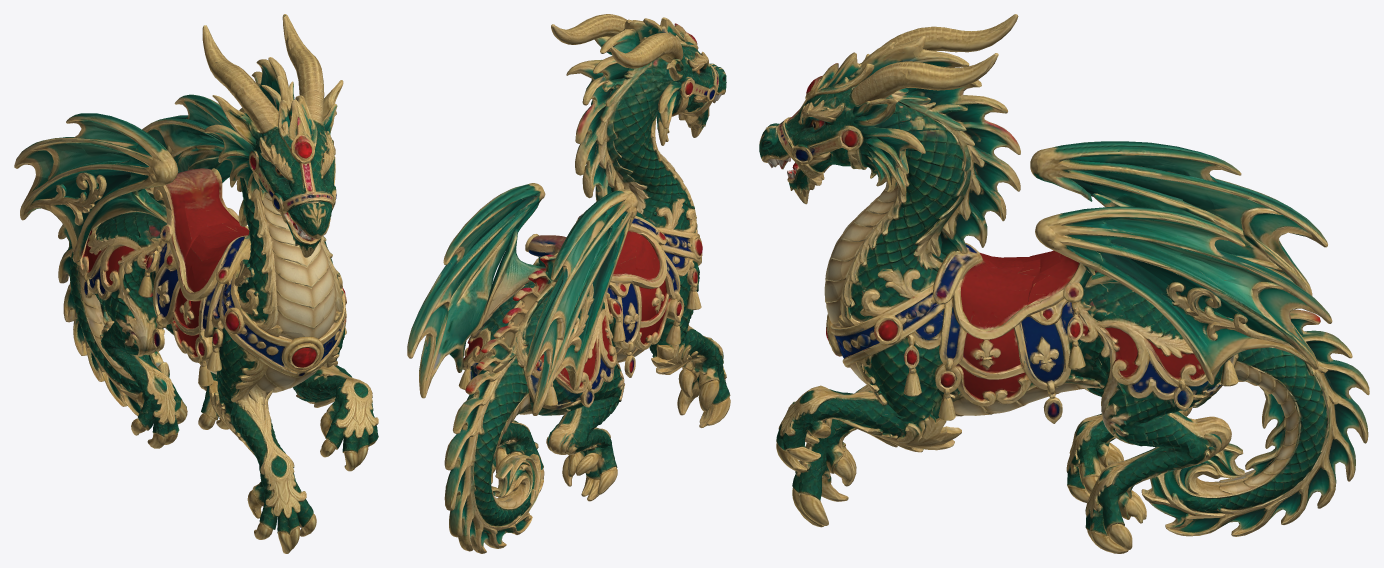
File: dragon.glb
The picture shows the model from 3 angles, left to right: view 1: azimuth 30°, elevation 25°; view 2: azimuth 150°, elevation 25°; view 3: azimuth 270°, elevation 25°; orthographic projection. The views are drawn at different scales.
Size of the model in its own units: 0.6126 by 1.78 by 1.9.
1 material, 1 textured.
